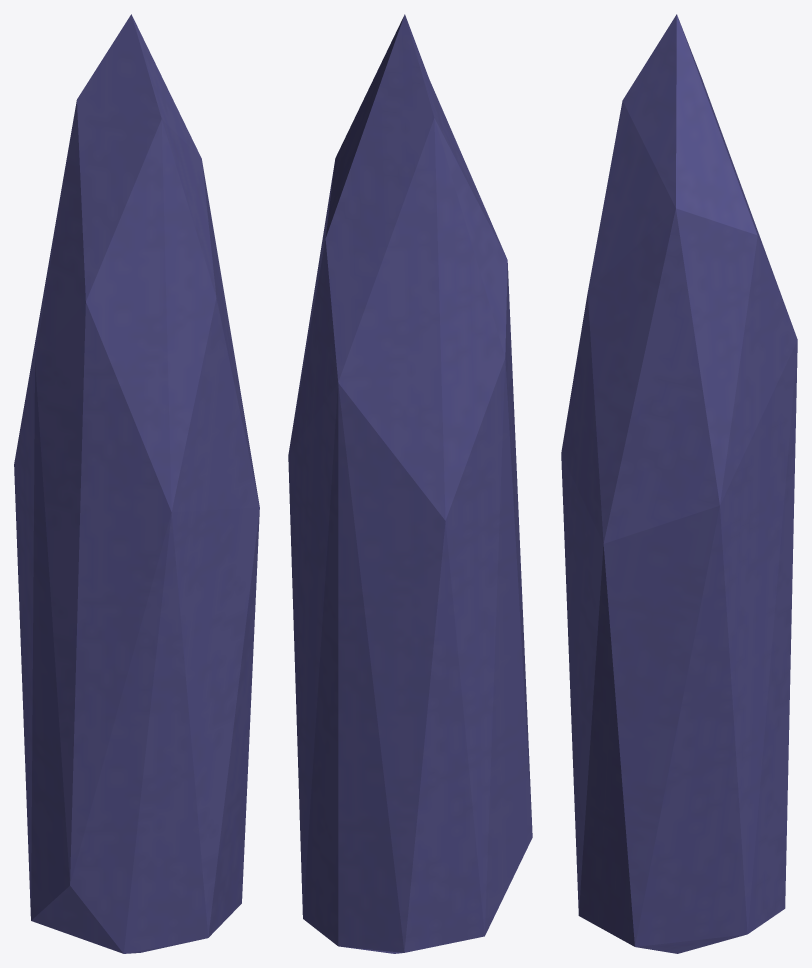
Rendered from icicle2.fbx.
3 renders of one model, left to right at view 1: azimuth 30°, elevation 25°; view 2: azimuth 150°, elevation 25°; view 3: azimuth 270°, elevation 25°, orthographic.
Parts seen in each view (by area): view 1: Icicle2; view 2: Icicle2; view 3: Icicle2.
Part boxes in pixels (x1,y1,x2,y2): Icicle2: (14,14,259,953); Icicle2: (288,14,532,953); Icicle2: (561,14,797,953).
Size of the model in its own units: 70.25 by 327 by 75.
